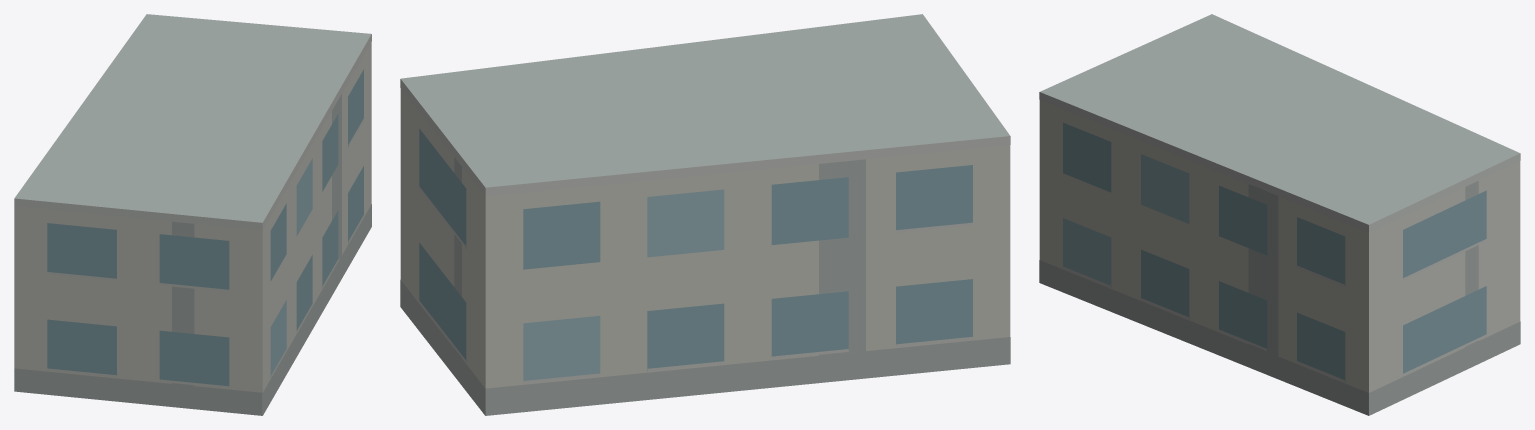
File: survey-upis-32760131.glb
3 renders of one model, left to right at view 1: azimuth 30°, elevation 25°; view 2: azimuth 150°, elevation 25°; view 3: azimuth 270°, elevation 25°, orthographic. The views are drawn at different scales.
Visible parts, largest first — view 1: survey-upis-32760131.tmp; view 2: survey-upis-32760131.tmp; view 3: survey-upis-32760131.tmp.
Part boxes in pixels (<box>): survey-upis-32760131.tmp: <box>14,14,371,415</box>; survey-upis-32760131.tmp: <box>400,14,1010,415</box>; survey-upis-32760131.tmp: <box>1039,14,1520,415</box>.
Size of the model in its own units: 14.45 by 6.1 by 13.92.
